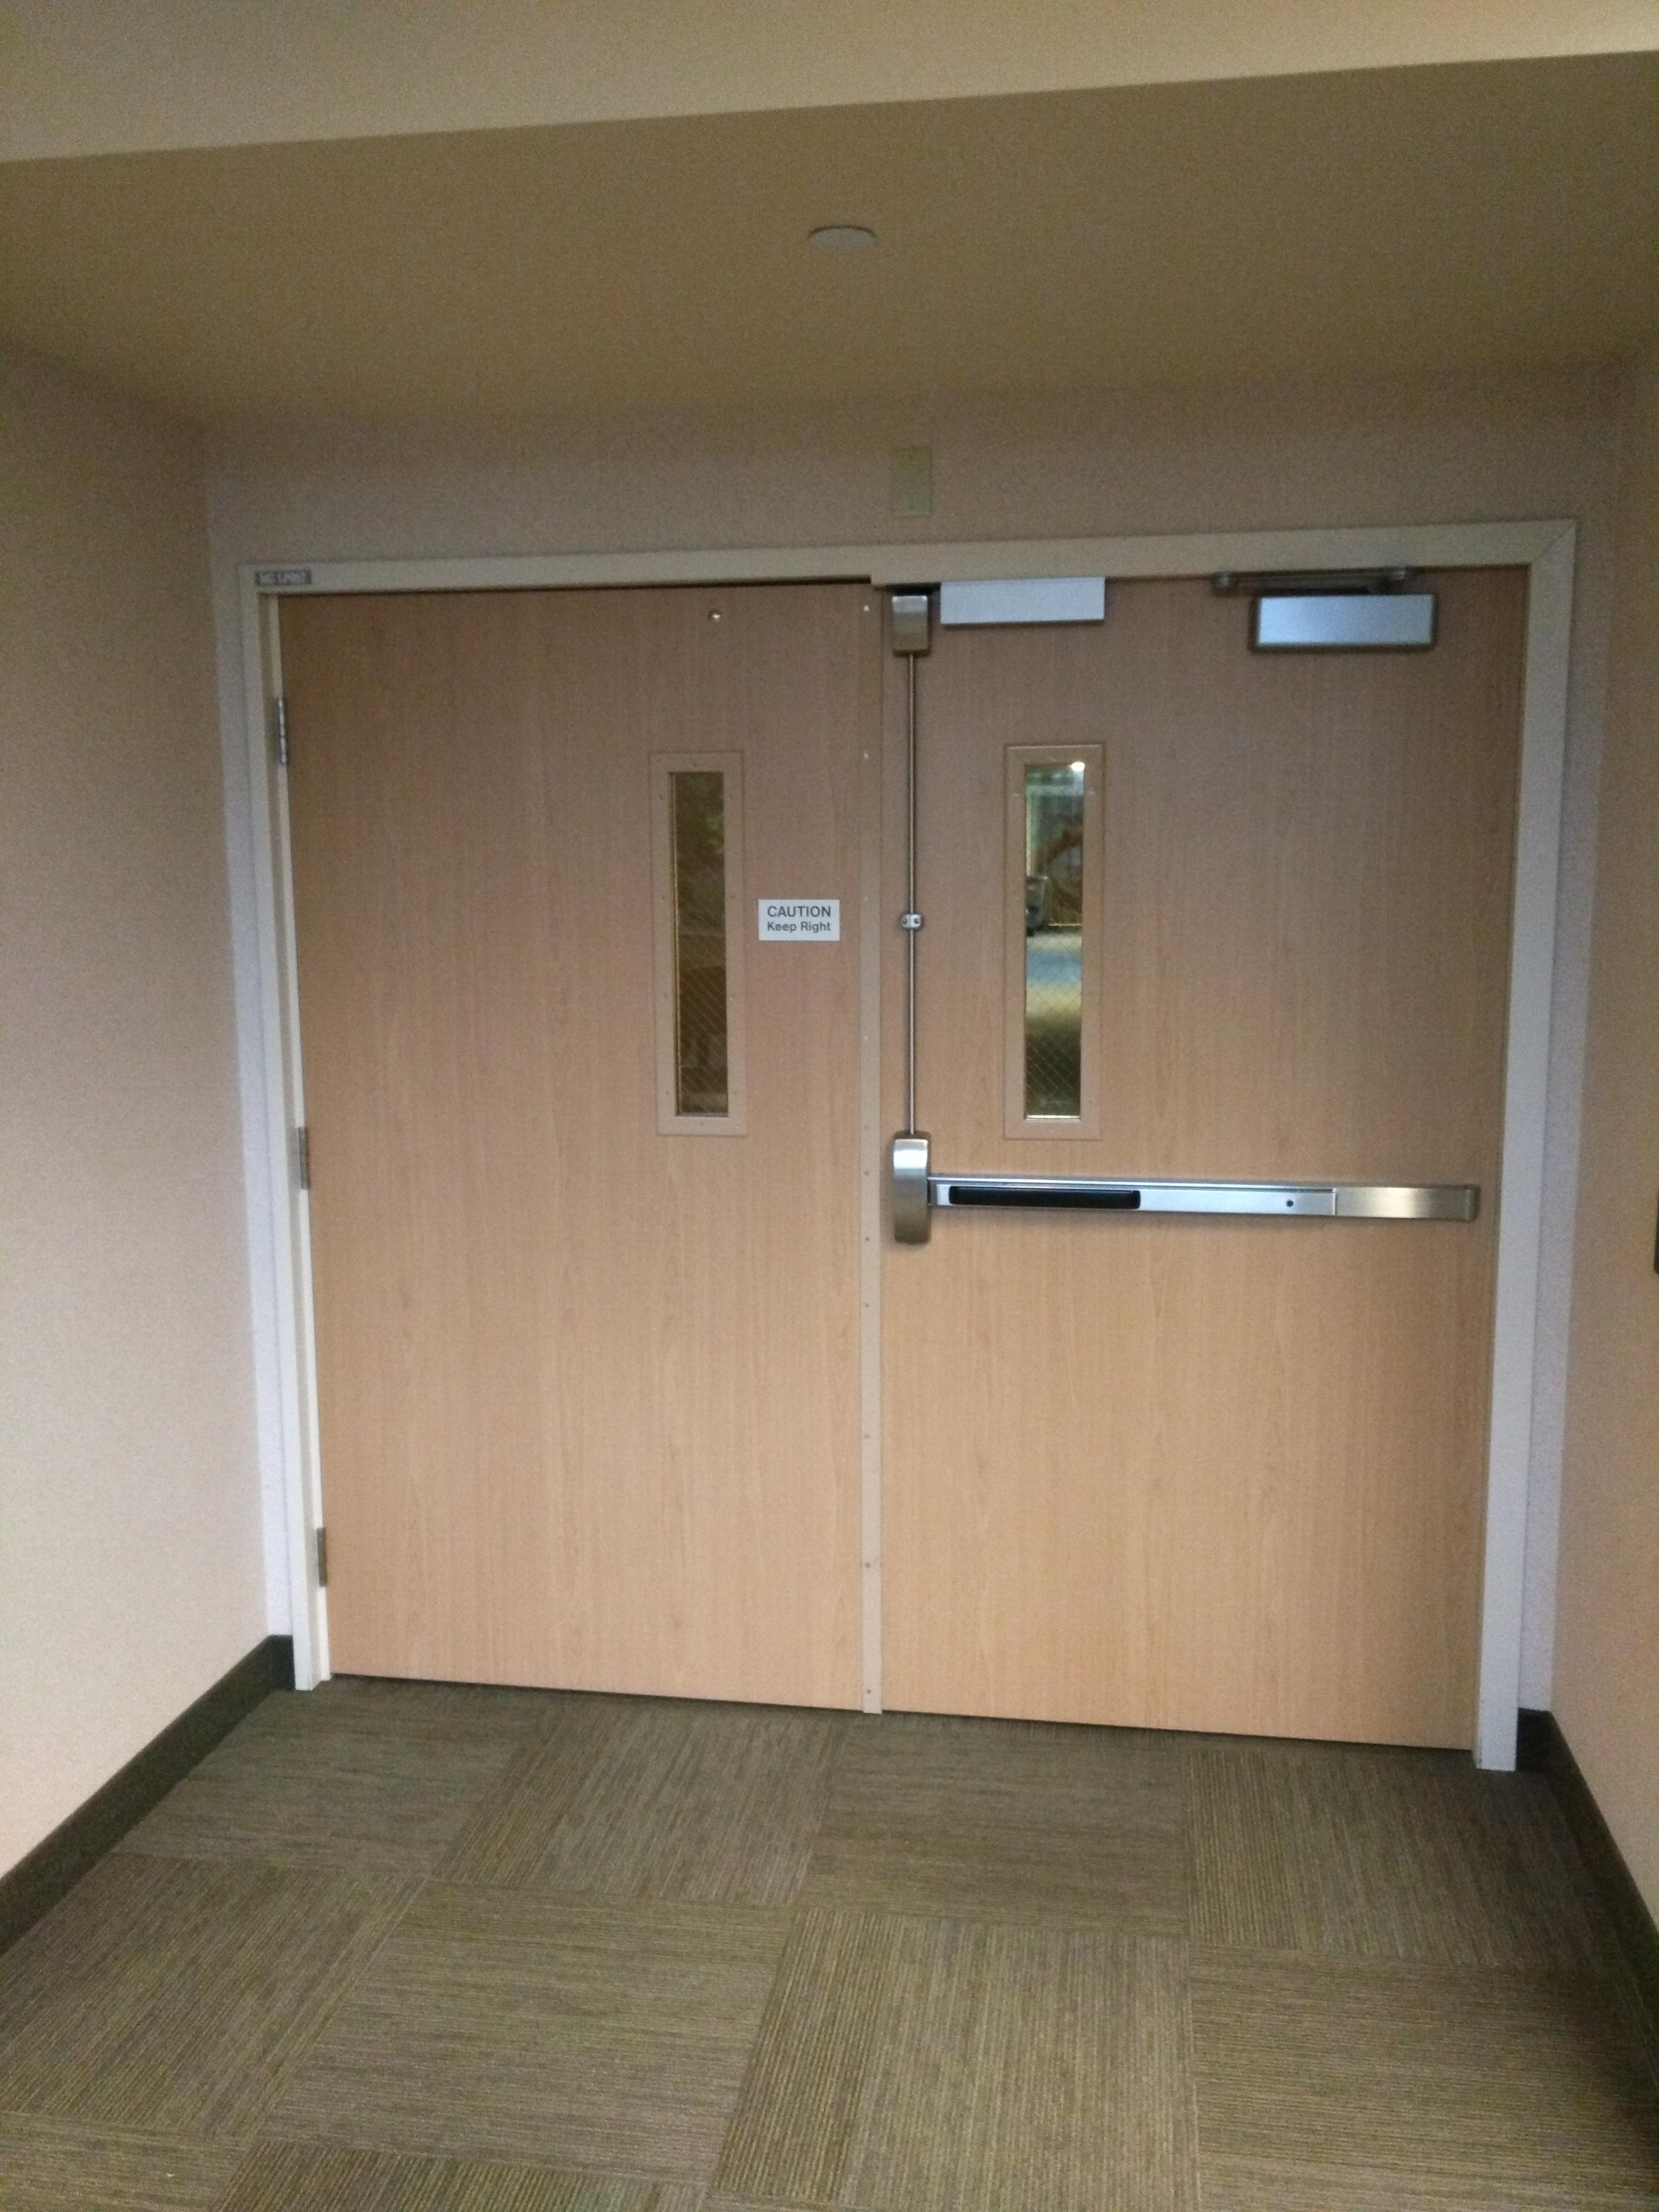door: (237, 543, 1528, 1763)
